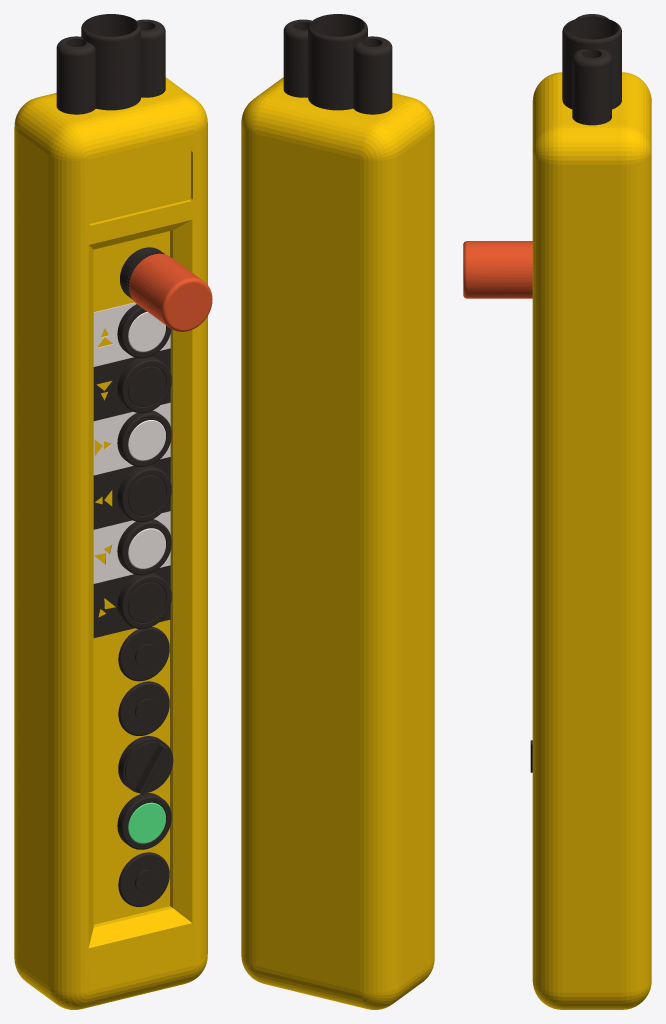
File: ControlPuenteGruaV2.fbx
3 renders of one model, left to right at view 1: azimuth 30°, elevation 25°; view 2: azimuth 150°, elevation 25°; view 3: azimuth 270°, elevation 25°, orthographic.
Parts seen in each view (by area): view 1: EnsamblajeControl___Control_1, EnsamblajeControl___Superior_control_1, EnsamblajeControl___Boton_stop_2_1, EnsamblajeControl___Perilla_1, EnsamblajeControl___Tapón_1_2, EnsamblajeControl___Tapón_1_1, EnsamblajeControl___Tapón_1, EnsamblajeControl___Flecha_a_la_izquierda_1, EnsamblajeControl___Flecha_abajo_1, EnsamblajeControl___Flecha_diagonal_derecha_2, EnsamblajeControl___Flecha_a_la_derecha_1, EnsamblajeControl___Flecha_diagonal_derecha_1 (+16 smaller); view 2: EnsamblajeControl___Control_1, EnsamblajeControl___Superior_control_1; view 3: EnsamblajeControl___Control_1, EnsamblajeControl___Superior_control_1, EnsamblajeControl___Boton_stop_2_1.
Boxes of the visible parts, x1,y1,x2,y2 form: EnsamblajeControl___Control_1: (14, 77, 207, 1009); EnsamblajeControl___Superior_control_1: (56, 14, 165, 114); EnsamblajeControl___Boton_stop_2_1: (129, 253, 212, 331); EnsamblajeControl___Perilla_1: (118, 736, 173, 794); EnsamblajeControl___Tapón_1_2: (118, 852, 169, 906); EnsamblajeControl___Tapón_1_1: (118, 681, 169, 735); EnsamblajeControl___Tapón_1: (118, 627, 169, 681); EnsamblajeControl___Flecha_a_la_izquierda_1: (93, 457, 170, 529); EnsamblajeControl___Flecha_abajo_1: (93, 348, 170, 421); EnsamblajeControl___Flecha_diagonal_derecha_2: (93, 565, 170, 637); EnsamblajeControl___Flecha_a_la_derecha_1: (93, 402, 170, 475); EnsamblajeControl___Flecha_diagonal_derecha_1: (93, 511, 170, 583); EnsamblajeControl___Control_1: (241, 77, 434, 1009); EnsamblajeControl___Superior_control_1: (283, 14, 392, 114); EnsamblajeControl___Control_1: (532, 72, 651, 1009); EnsamblajeControl___Superior_control_1: (562, 14, 621, 125); EnsamblajeControl___Boton_stop_2_1: (463, 241, 532, 298).
Bounding box in the file's own units: 90 × 530 × 95.
